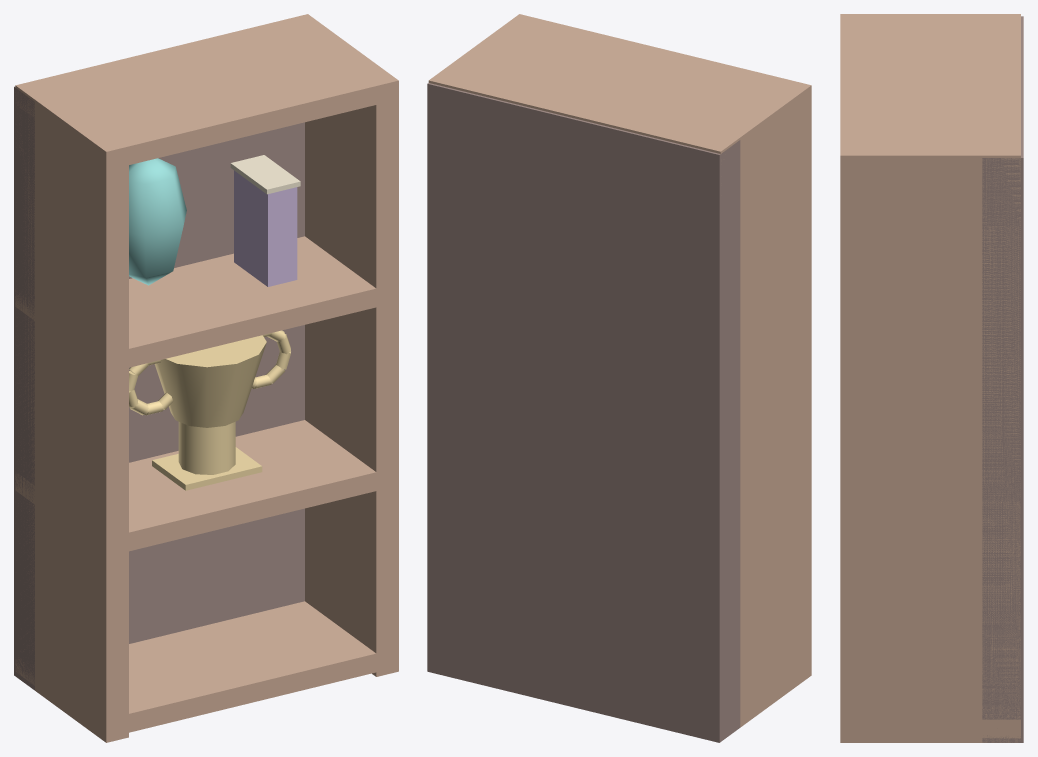
The model's file is 17_vitrina_recuerdos.glb.
The picture shows the model from 3 angles, left to right: view 1: azimuth 30°, elevation 25°; view 2: azimuth 150°, elevation 25°; view 3: azimuth 270°, elevation 25°; orthographic projection.
Parts seen in each view (by area): view 1: body (×2), samples (×4); view 2: body (×2); view 3: body (×2).
Part boxes in pixels (x1,y1,x2,y2): body (×2): (14,14,398,742); samples (×4): (129,155,300,490); body (×2): (427,14,811,742); body (×2): (840,14,1023,742).
Bounding box in the file's own units: 0.65 × 1.25 × 0.355.
